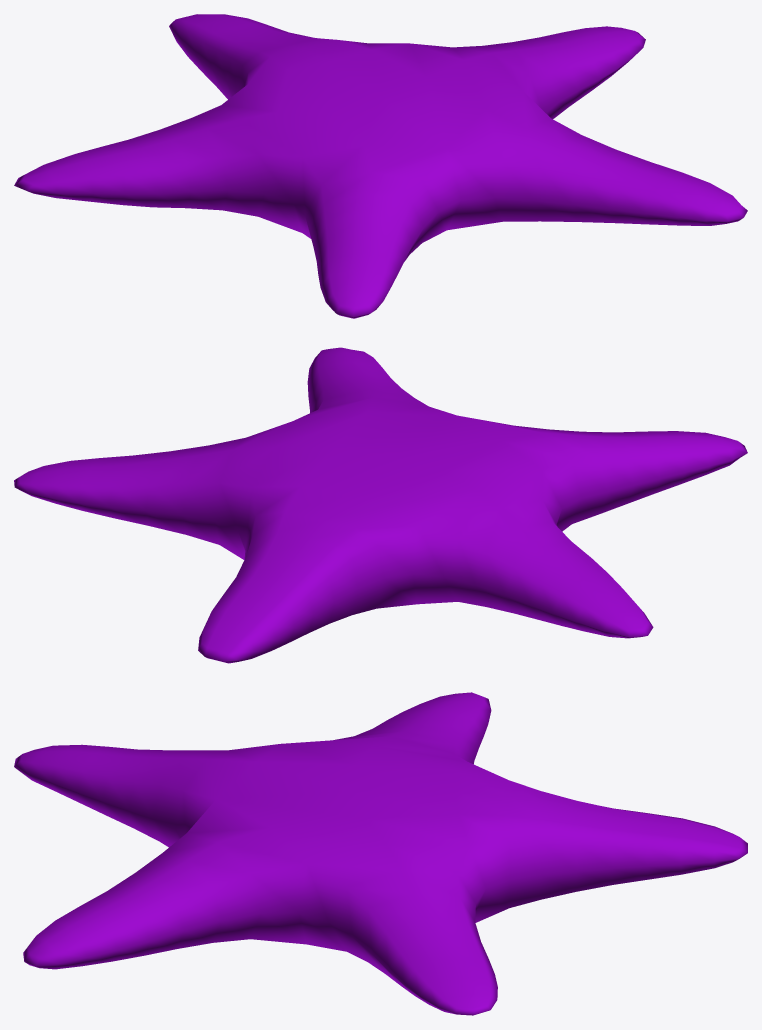
Rendered from seaFishPurple.fbx.
The picture shows the model from 3 angles, top to bottom: view 1: azimuth 30°, elevation 25°; view 2: azimuth 150°, elevation 25°; view 3: azimuth 270°, elevation 25°; orthographic projection. The views are drawn at different scales.
Visible parts, largest first — view 1: pCube1; view 2: pCube1; view 3: pCube1.
Boxes of the visible parts, x1,y1,x2,y2 form: pCube1: [14, 14, 747, 318]; pCube1: [14, 347, 747, 663]; pCube1: [14, 692, 747, 1015].
Bounding box in the file's own units: 6.52 × 0.9409 × 6.28.
